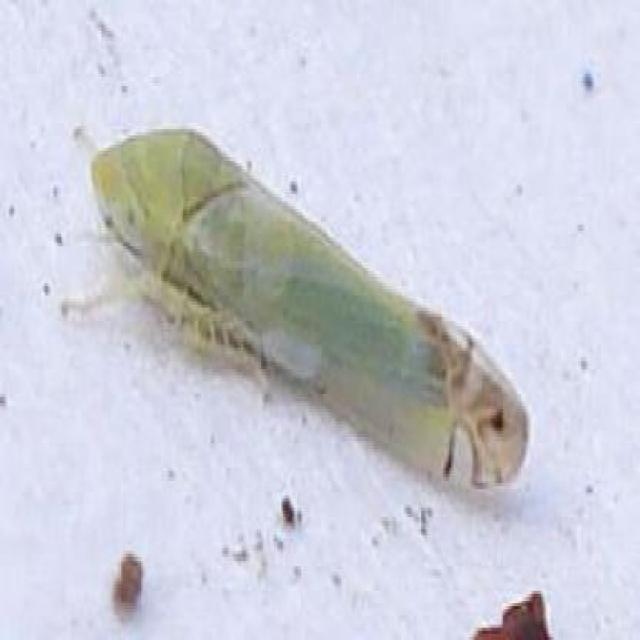green-leafhopper: (63, 122, 529, 486)
